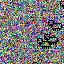sheep: (43, 33, 59, 46), (36, 37, 52, 49), (48, 20, 63, 31)
